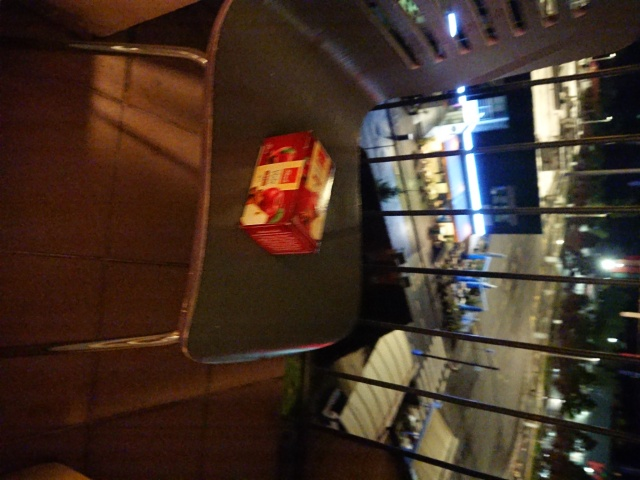Franck Apple Cinnamon Tea 60g: (233, 126, 340, 261)
